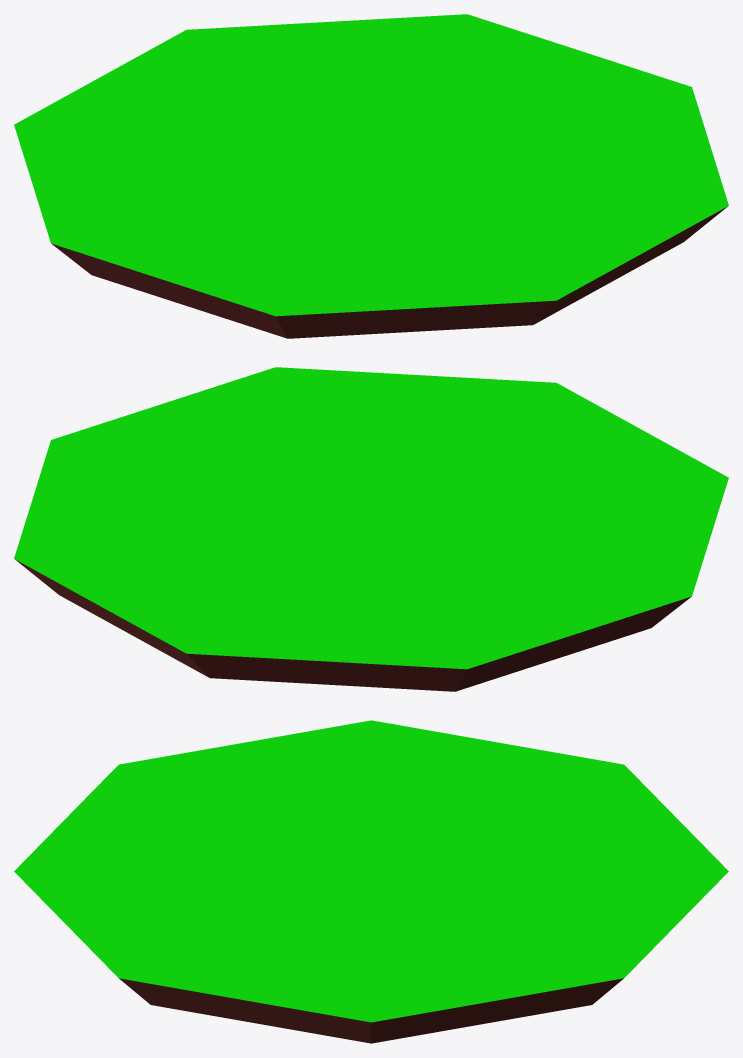
The model's file is Platform1.glb.
The picture shows the model from 3 angles, top to bottom: view 1: azimuth 30°, elevation 25°; view 2: azimuth 150°, elevation 25°; view 3: azimuth 270°, elevation 25°; orthographic projection. The views are drawn at different scales.
Visible parts, largest first — view 1: Cylinder; view 2: Cylinder; view 3: Cylinder.
Part boxes in pixels (x1,y1,x2,y2): Cylinder: (14,14,728,338); Cylinder: (14,367,728,691); Cylinder: (14,720,728,1043).
Size of the model in its own units: 12 by 1.5 by 12.
